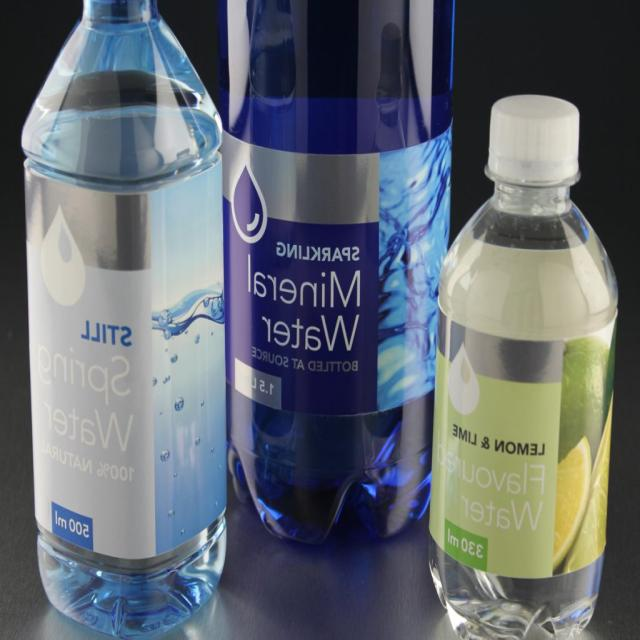plastic: (23, 0, 226, 640), (227, 0, 457, 544), (428, 94, 615, 640)
